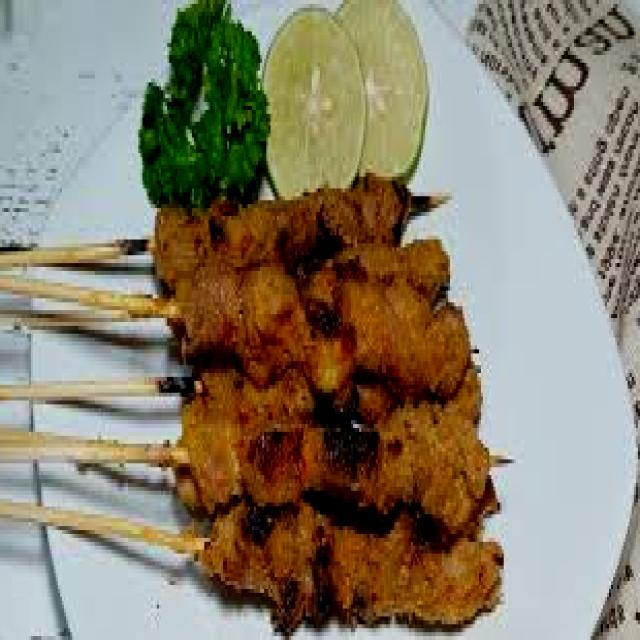sate: (0, 156, 514, 616)
